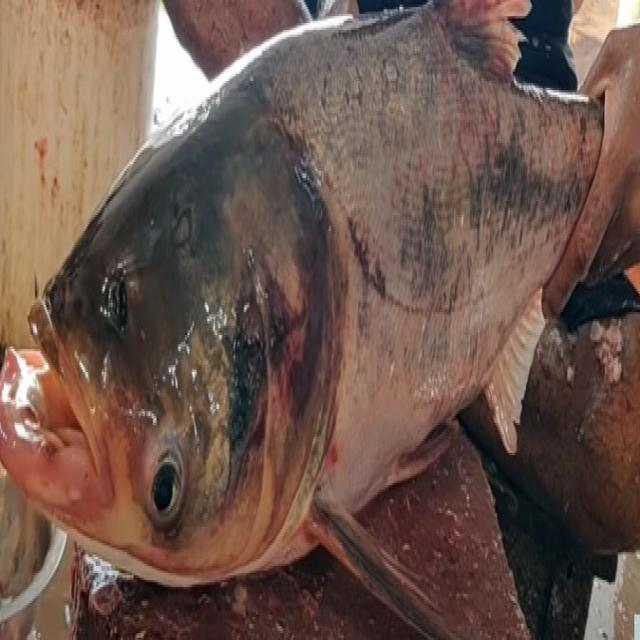Big-Head-Carp: (12, 16, 599, 604)
